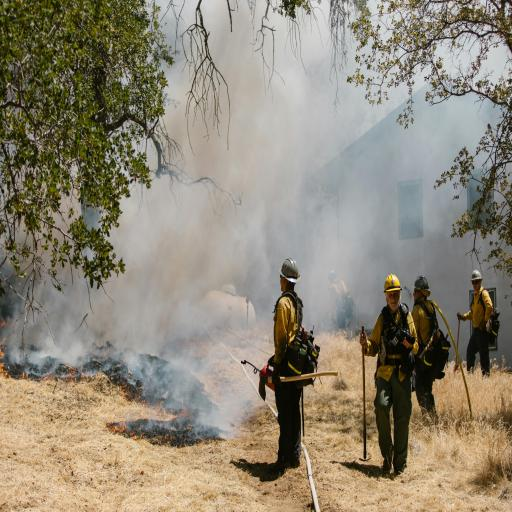wildfire: (0, 0, 274, 505)
